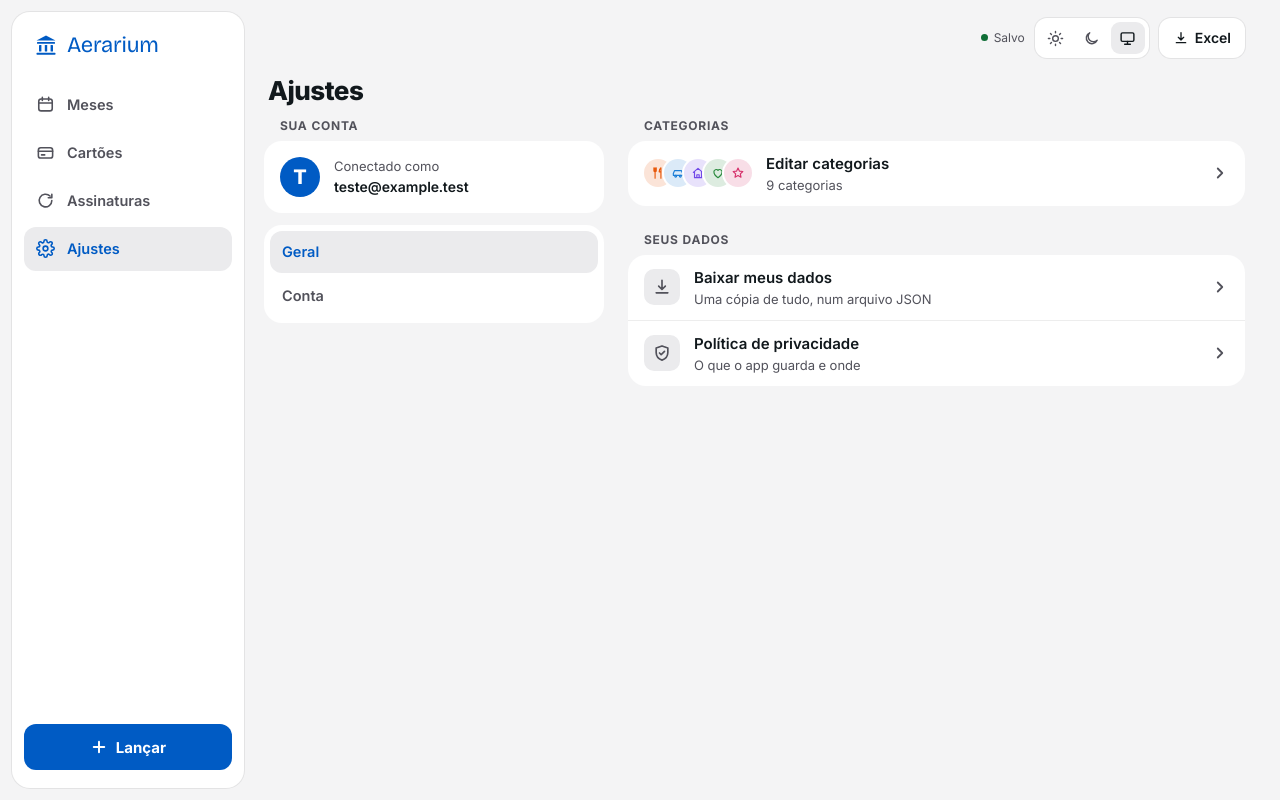
Test: baixar meus dados › o botão baixa e avisa
Click the button "Baixar meus dados": point(662, 287) [628, 255, 1245, 320]
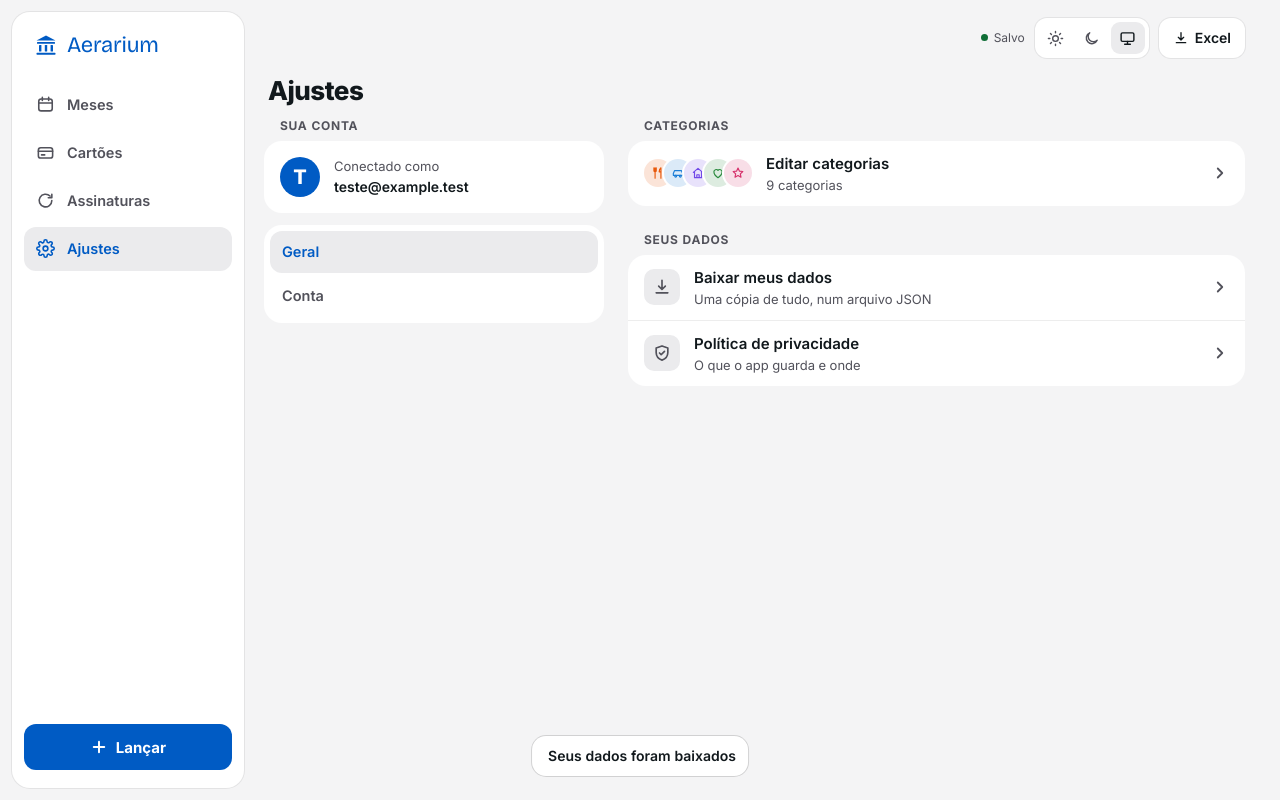
Expected: the text "Seus dados foram baixados" is shown, [548, 746, 736, 766]
